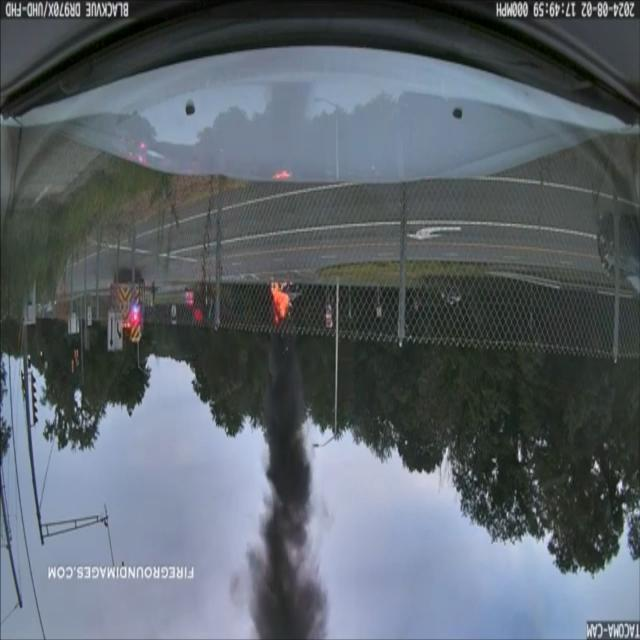fire: (270, 276, 295, 318)
